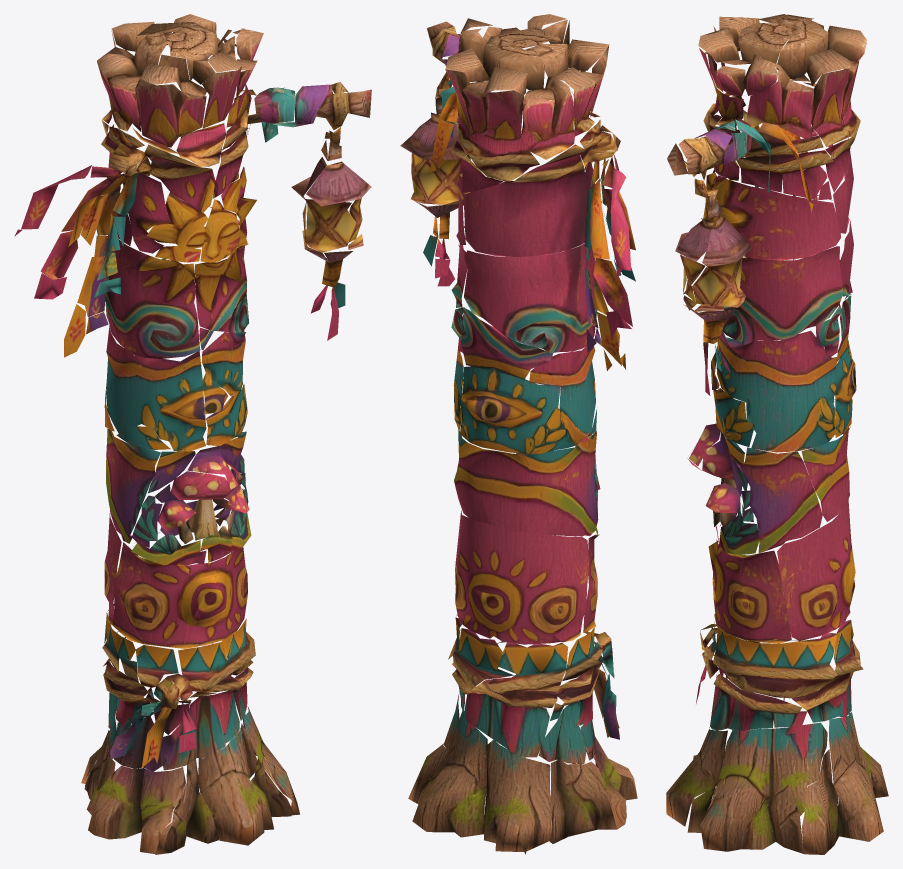
File: gatepost.glb
3 renders of one model, left to right at view 1: azimuth 30°, elevation 25°; view 2: azimuth 150°, elevation 25°; view 3: azimuth 270°, elevation 25°, orthographic.
Parts seen in each view (by area): view 1: tripo_node_bc1af9b7-da8d-4147-87d5-63af5f89cd51; view 2: tripo_node_bc1af9b7-da8d-4147-87d5-63af5f89cd51; view 3: tripo_node_bc1af9b7-da8d-4147-87d5-63af5f89cd51.
Part boxes in pixels (x1,y1,x2,y2): tripo_node_bc1af9b7-da8d-4147-87d5-63af5f89cd51: [14, 14, 371, 854]; tripo_node_bc1af9b7-da8d-4147-87d5-63af5f89cd51: [400, 14, 637, 854]; tripo_node_bc1af9b7-da8d-4147-87d5-63af5f89cd51: [666, 14, 888, 854].
Bounding box in the file's own units: 0.4692 × 1.2 × 0.3113.
1 material, 1 textured.
